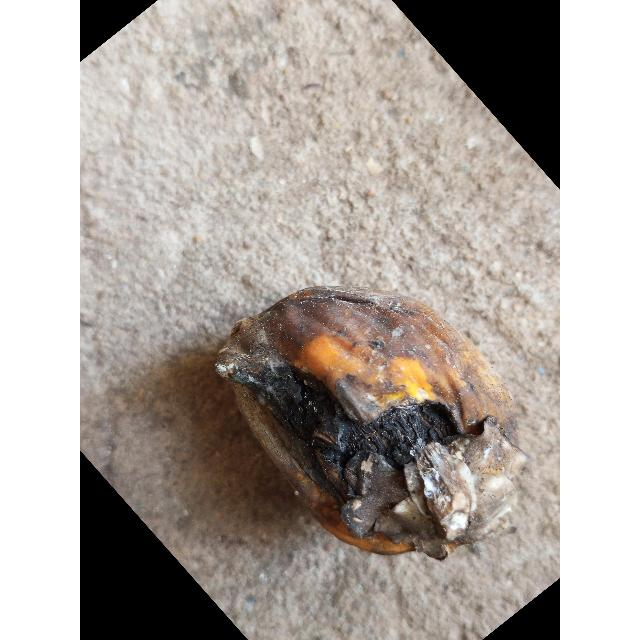damaged: (214, 286, 523, 563)
